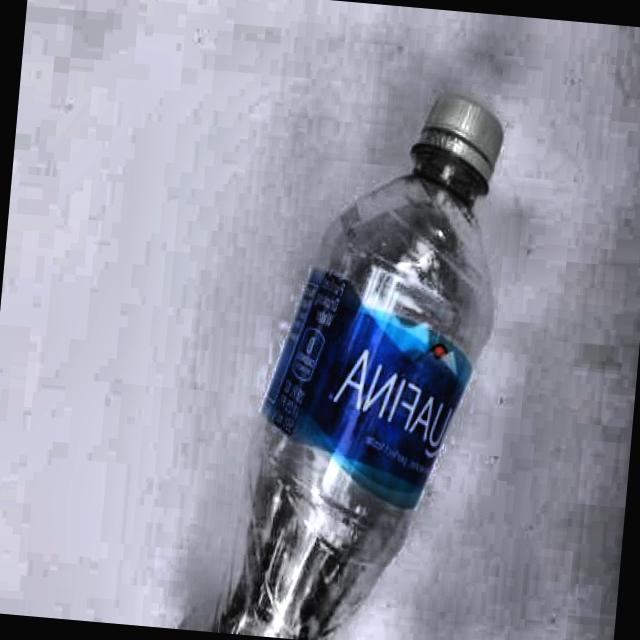plastic bottle: (213, 97, 502, 640)
